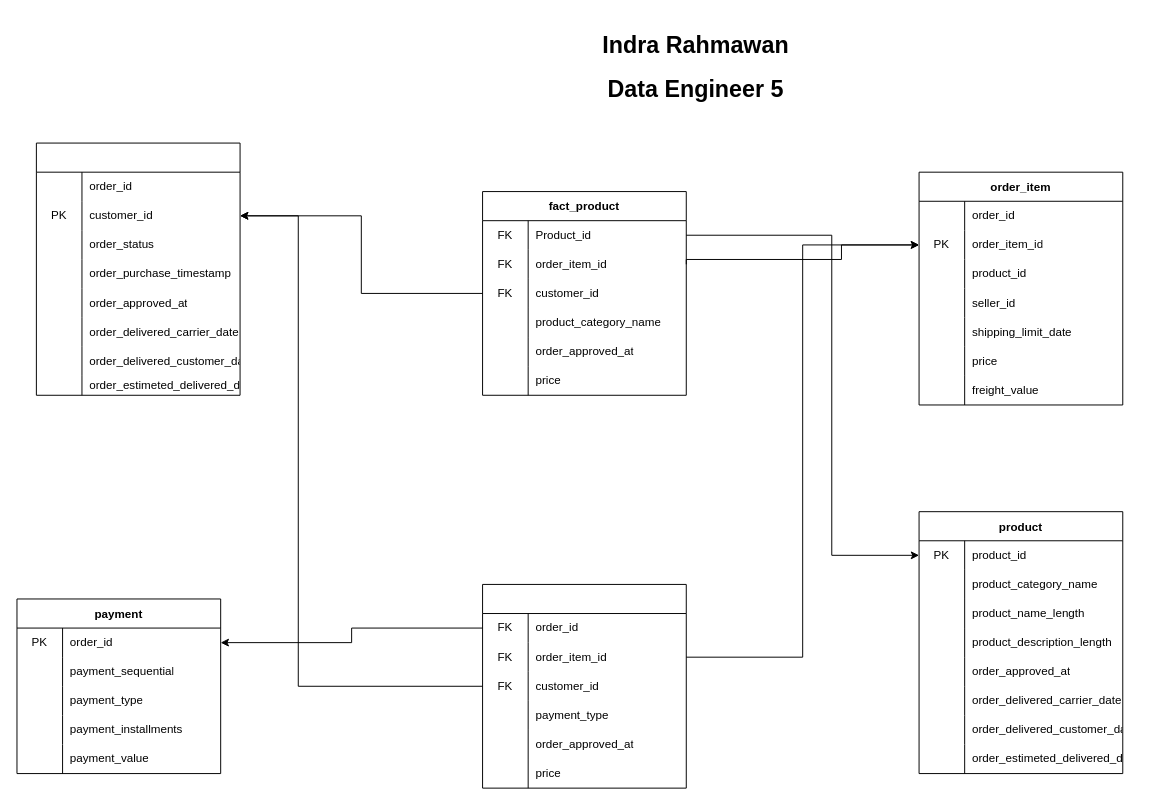
Some shapes in this 1155 by 805 pixel diagram are drawn without their labels. The shapes that lost their labels are listed below. From the top down, each one's box as (x1, y1, x2, y2) in pixels, then its label:
(35, 142, 240, 395): order_dataset
(482, 583, 686, 788): fact_payment
